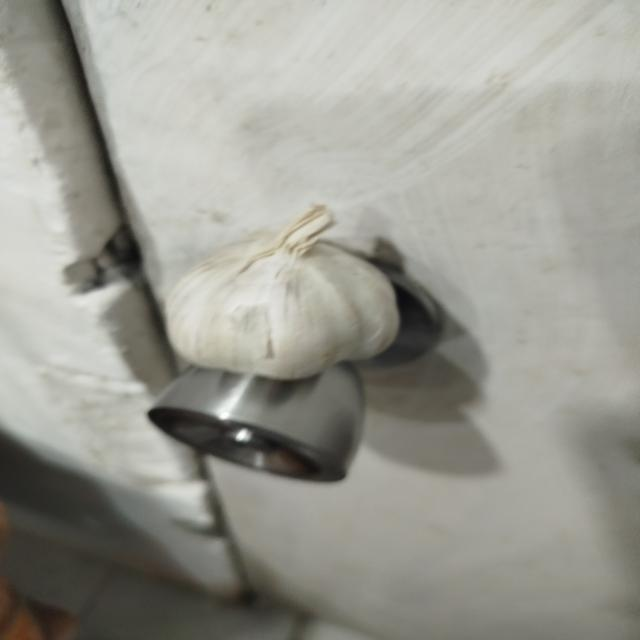garlic: (162, 204, 402, 382)
